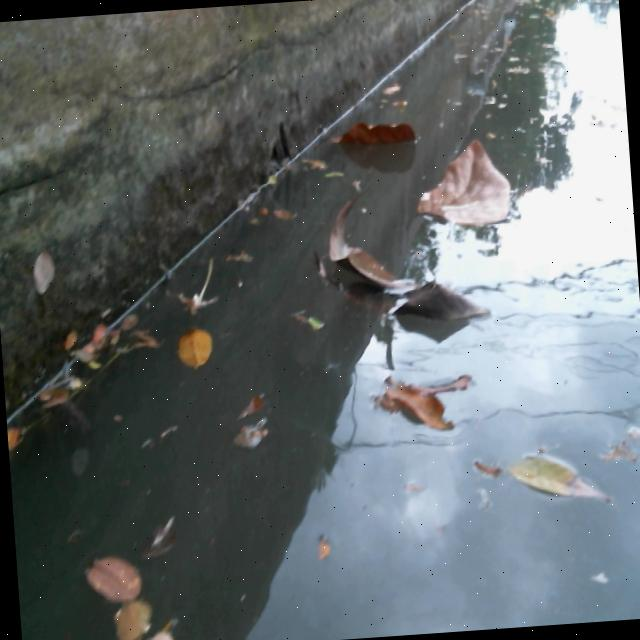Big-leaf: (311, 195, 492, 341), (411, 134, 515, 244), (362, 368, 470, 448), (328, 118, 414, 154)
Small-leaf: (502, 433, 610, 513), (73, 544, 141, 605), (98, 593, 160, 640), (62, 315, 112, 369), (164, 325, 209, 377), (229, 383, 275, 431), (223, 410, 272, 453), (131, 617, 177, 640), (264, 195, 300, 222), (6, 416, 22, 449)
